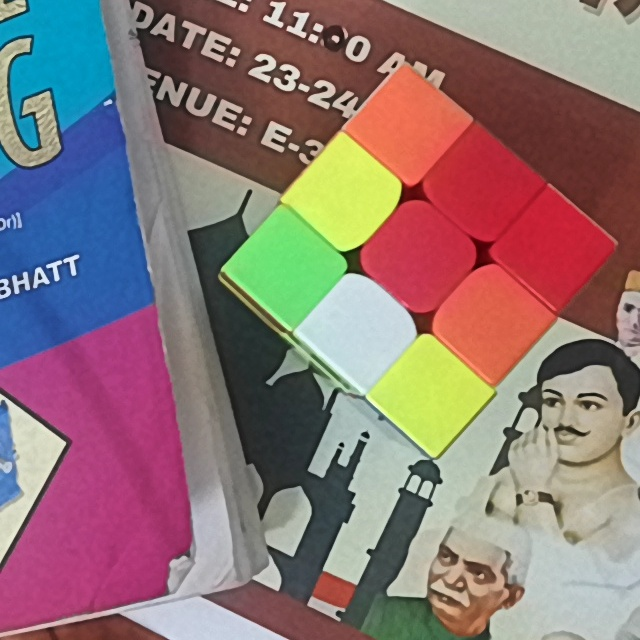tile: (455, 290, 524, 352), (451, 152, 517, 214), (397, 363, 462, 425), (374, 96, 441, 155), (386, 227, 447, 290), (255, 238, 319, 298), (317, 165, 378, 227), (329, 300, 388, 362), (526, 220, 586, 279)
